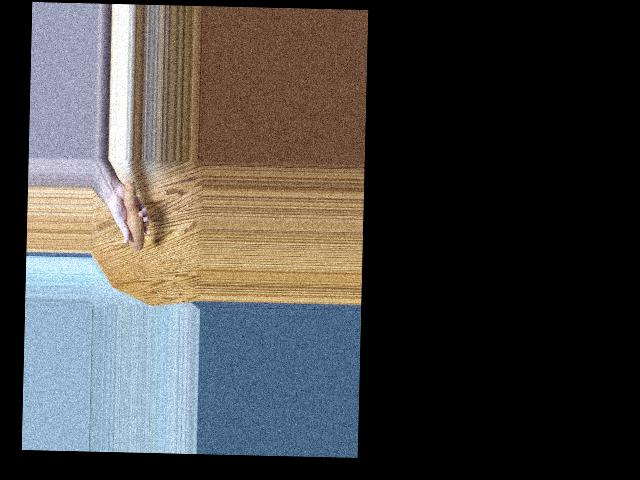sweet_potato: (116, 173, 147, 252)
